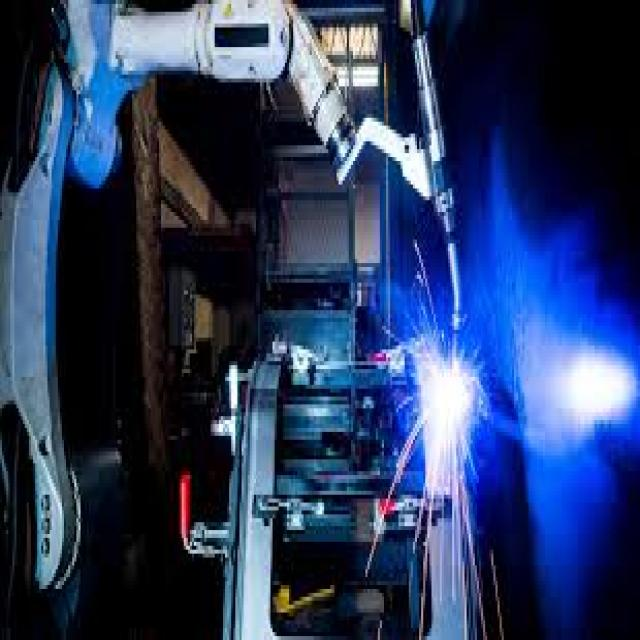welding: (428, 363, 468, 426)
